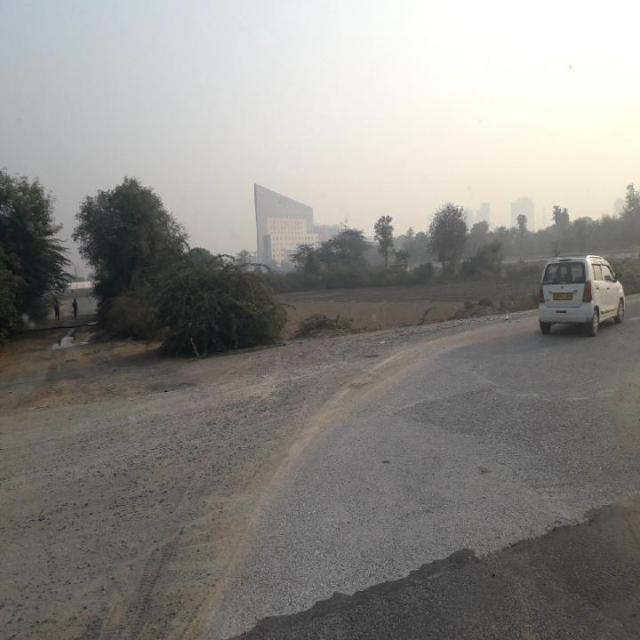Surface Erosion: (24, 322, 452, 640)
